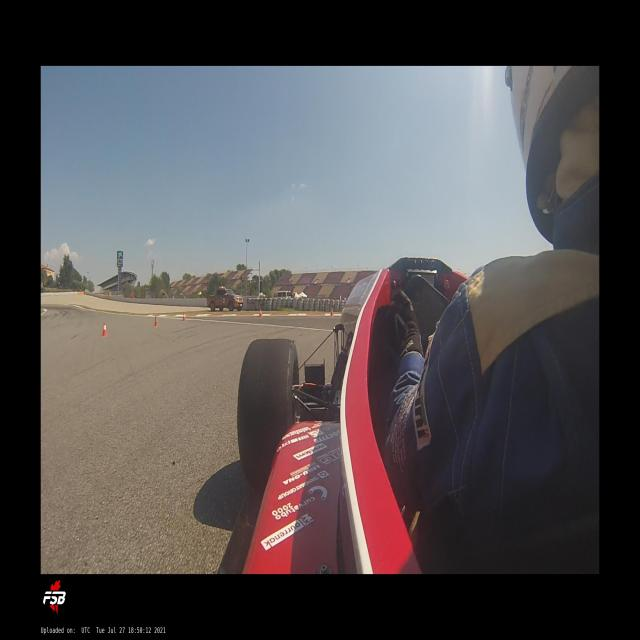orange_cone: (102, 321, 107, 337), (154, 315, 158, 327), (183, 312, 186, 322), (259, 308, 262, 318), (330, 307, 333, 316)
